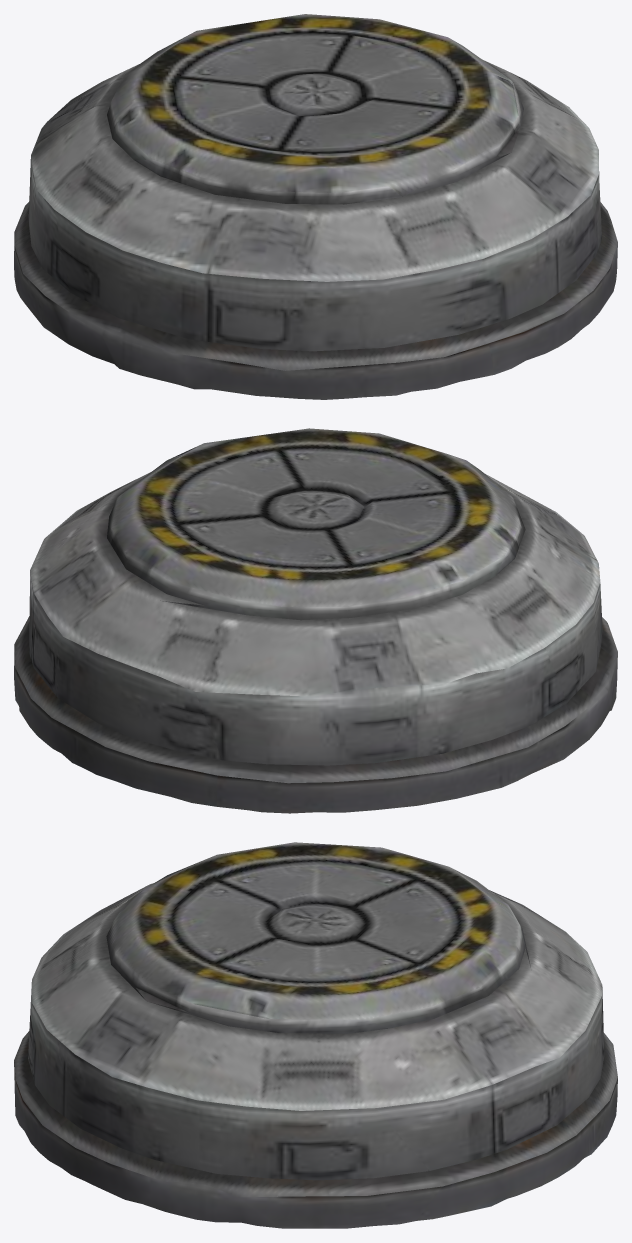
3 views of the same model, one above another, from view 1: azimuth 30°, elevation 25°; view 2: azimuth 150°, elevation 25°; view 3: azimuth 270°, elevation 25° (orthographic).
Visible parts, largest first — view 1: body; view 2: body; view 3: body.
Part boxes in pixels (bbox=[...]): body: bbox=[14, 14, 617, 399]; body: bbox=[14, 428, 617, 813]; body: bbox=[14, 842, 617, 1228].
Bounding box in the file's own units: 0.4633 × 0.1567 × 0.4641.
Materials: 1 (1 with a texture image).
